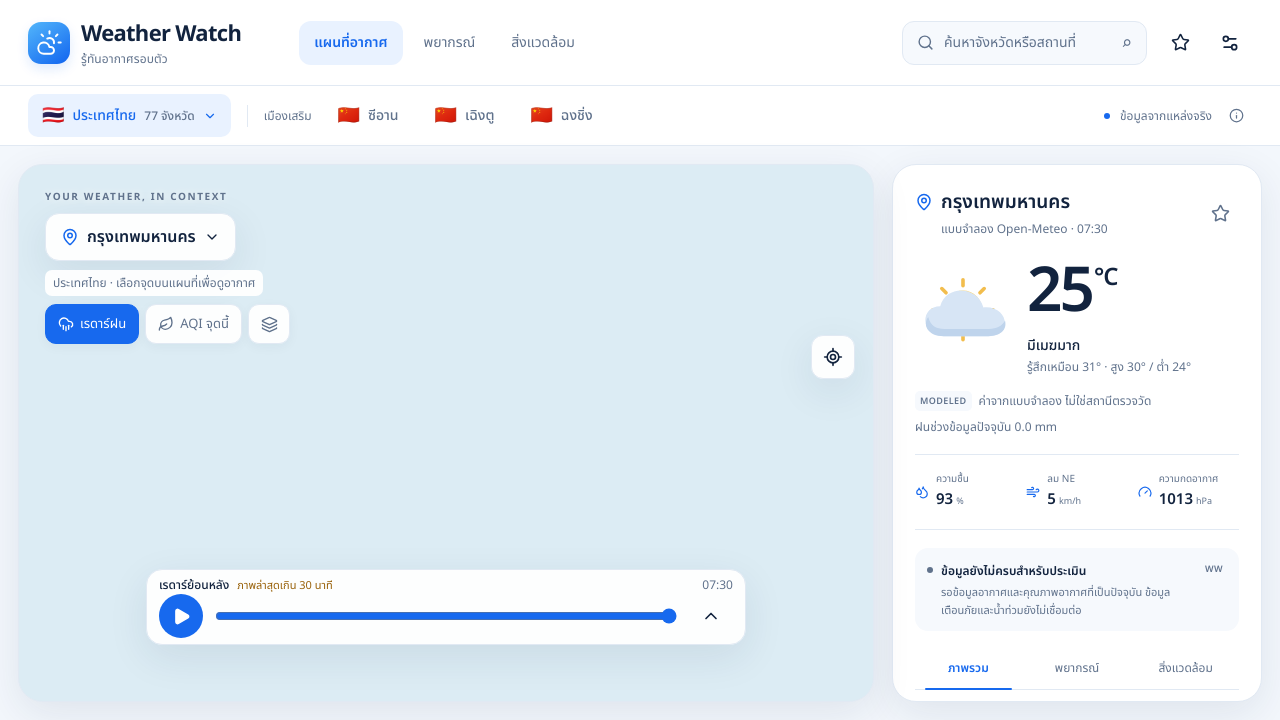
Test: App regressions › geolocation is opt-in and denial preserves a usable default
The image size is (1280, 720).
Check: the element with test id "temperature" is shown, box [1027,244,1118,338]
Click the button with aria-label "ค้นหาตำแหน่ง": click(1024, 42) [902,20,1147,64]
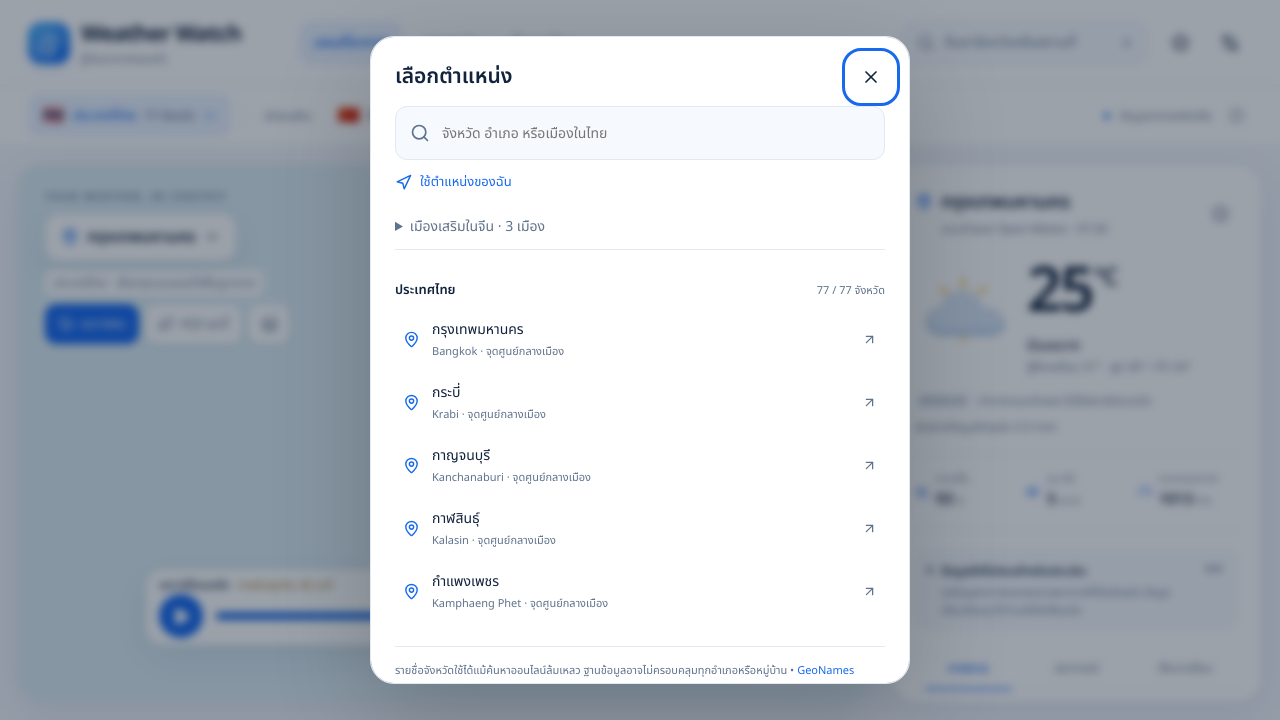
Click the button "ใช้ตำแหน่งของฉัน": click(453, 182) [395,160,512,204]
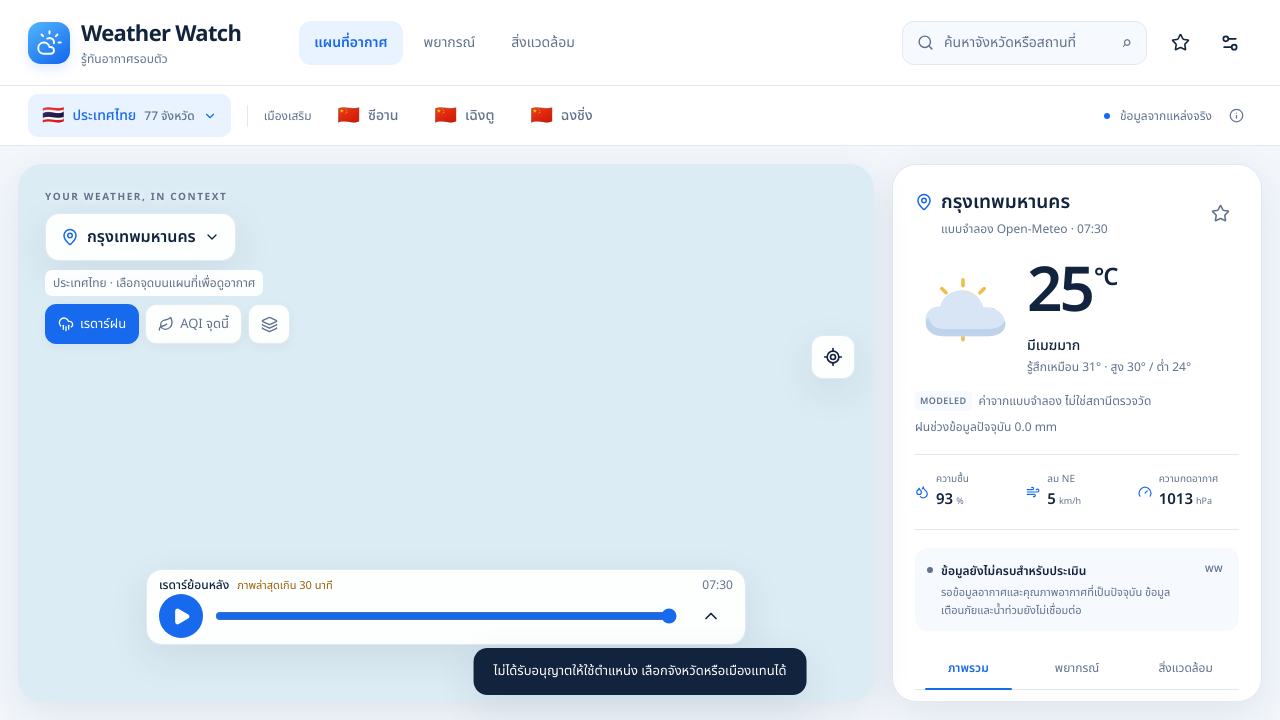
Check: the text "ไม่ได้รับอนุญาตให้ใช้ตำแหน่ง เลือกจังหวัดหรือเมืองแทนได้" is shown, box [474,648,806,695]
